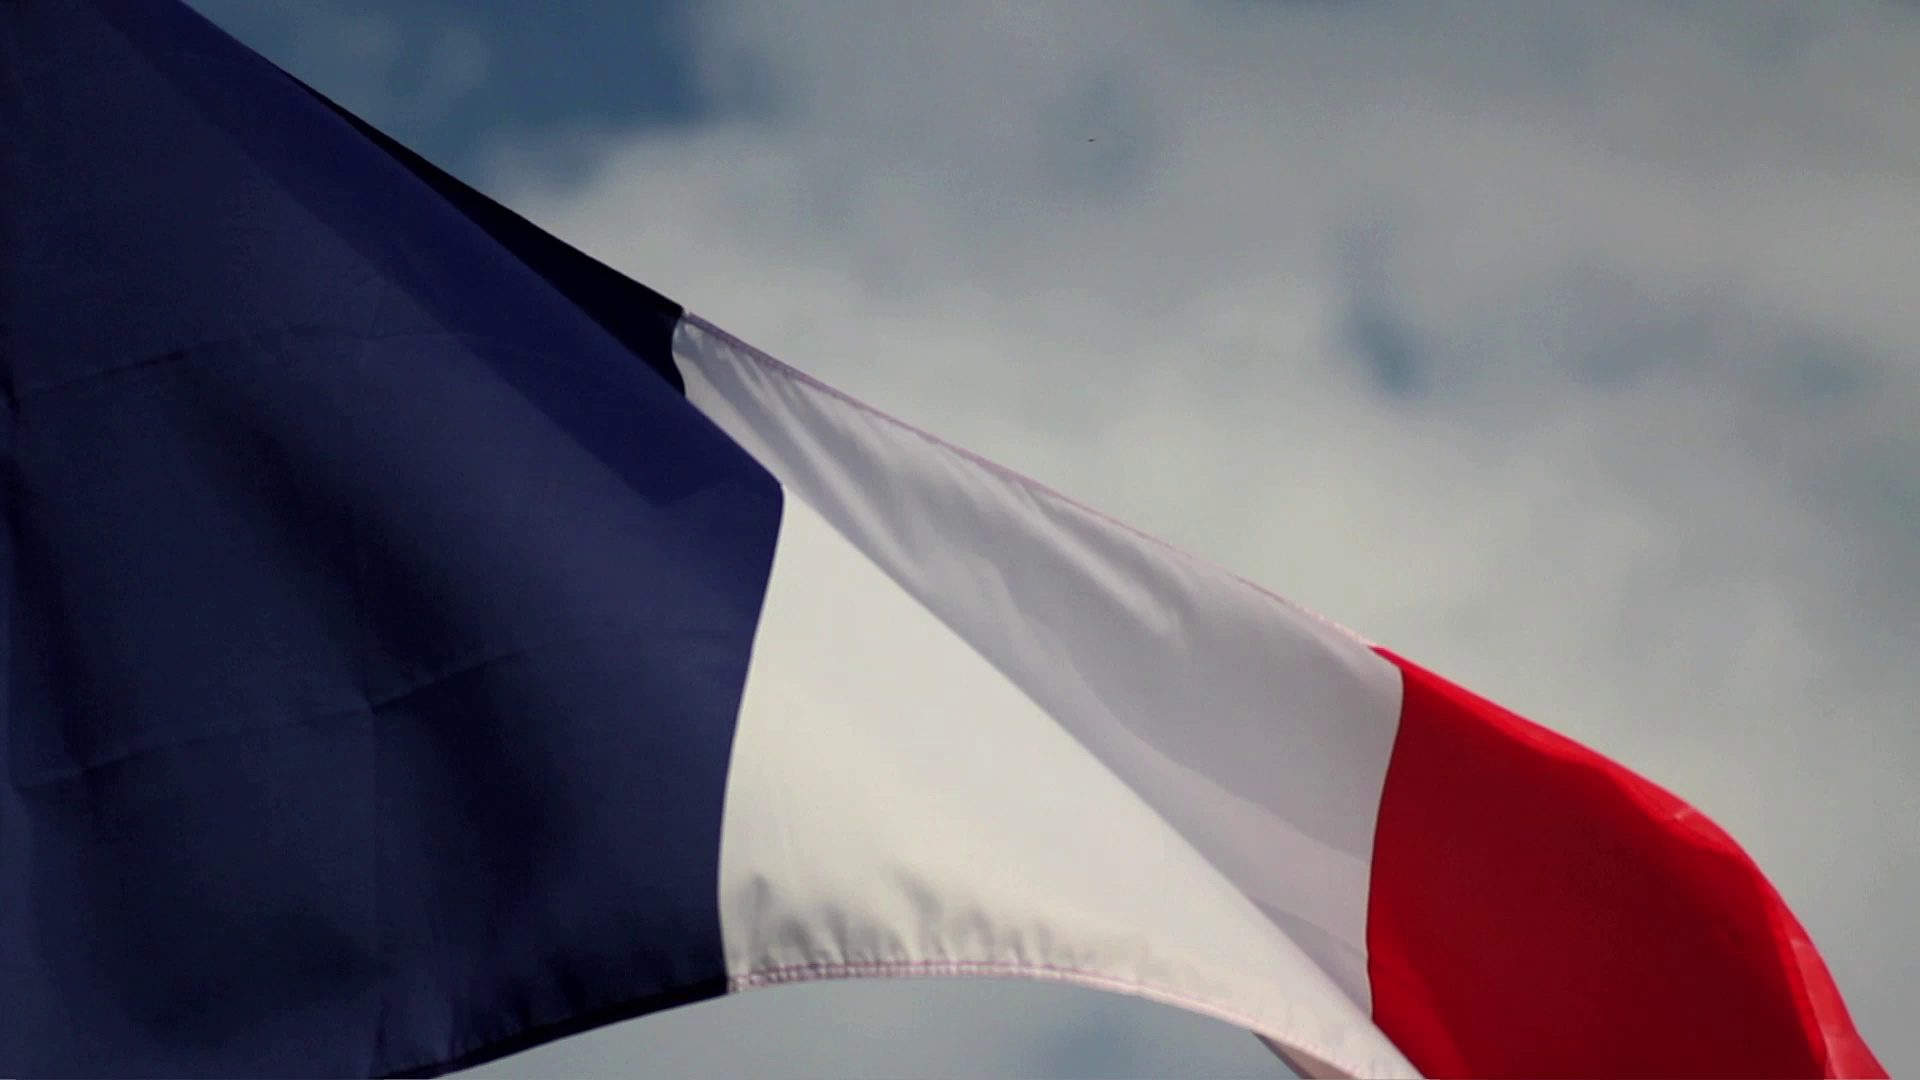French Flag: (1, 1, 1888, 1080)
